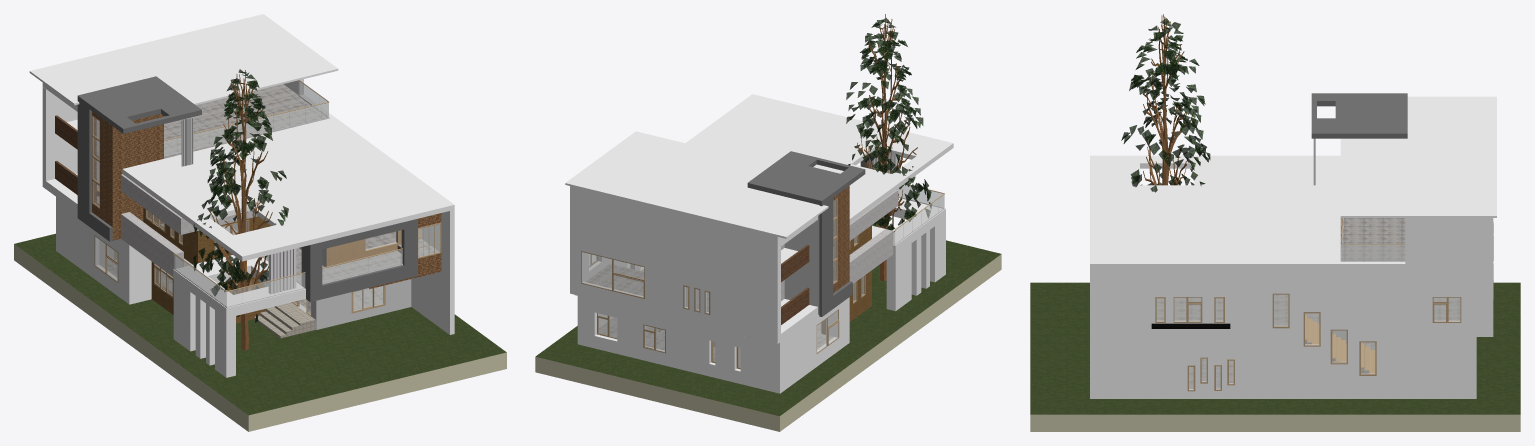
File: Villa2.glb
The picture shows the model from 3 angles, left to right: view 1: azimuth 30°, elevation 25°; view 2: azimuth 150°, elevation 25°; view 3: azimuth 270°, elevation 25°; orthographic projection. The views are drawn at different scales.
Visible parts, largest first — view 1: Material5, Material15, Material7, Material24, Material16, Material27, Material9.002, Material6, Material2, Material10, Material26, Material4 (+8 smaller); view 2: Material5, Material15, Material16, Material7, Material27, Material24, Material10, Material26, Material2, Material6, Material23, Material4 (+4 smaller); view 3: Material5, Material15, Material16, Material24, Material27, Material7, Material9.002, Material26, Material9, Material23, Material25, Material13 (+1 smaller).
Part boxes in pixels (left/top/right/bottom): Material5: left=29, top=14, right=454, bottom=377; Material15: left=14, top=233, right=506, bottom=415; Material7: left=77, top=76, right=417, bottom=301; Material24: left=93, top=80, right=440, bottom=313; Material16: left=14, top=244, right=506, bottom=431; Material27: left=193, top=69, right=288, bottom=322; Material9.002: left=96, top=84, right=382, bottom=311; Material6: left=92, top=111, right=441, bottom=288; Material2: left=96, top=117, right=411, bottom=329; Material10: left=121, top=174, right=257, bottom=276; Material26: left=209, top=70, right=272, bottom=350; Material4: left=143, top=208, right=270, bottom=323; Material5: left=565, top=94, right=953, bottom=393; Material15: left=536, top=223, right=1000, bottom=416; Material16: left=535, top=254, right=1001, bottom=431; Material7: left=747, top=151, right=871, bottom=316; Material27: left=846, top=18, right=931, bottom=230; Material24: left=581, top=184, right=944, bottom=367; Material10: left=781, top=189, right=898, bottom=300; Material26: left=857, top=14, right=917, bottom=281; Material2: left=658, top=215, right=819, bottom=366; Material6: left=833, top=186, right=849, bottom=292; Material23: left=581, top=251, right=839, bottom=369; Material4: left=821, top=225, right=871, bottom=334; Material5: left=1090, top=96, right=1496, bottom=398; Material15: left=1030, top=282, right=1520, bottom=414; Material16: left=1030, top=414, right=1520, bottom=431; Material24: left=1156, top=218, right=1460, bottom=389; Material27: left=1121, top=18, right=1210, bottom=192; Material7: left=1311, top=93, right=1407, bottom=138; Material9.002: left=1189, top=218, right=1405, bottom=388; Material26: left=1142, top=14, right=1192, bottom=185; Material9: left=1156, top=294, right=1460, bottom=325; Material23: left=1155, top=263, right=1493, bottom=391; Material25: left=1305, top=315, right=1375, bottom=373; Material13: left=1151, top=323, right=1230, bottom=328.
Bounding box in the file's own units: 16.33 × 18.2 × 25.66.
Materials: 21 (13 with a texture image).
